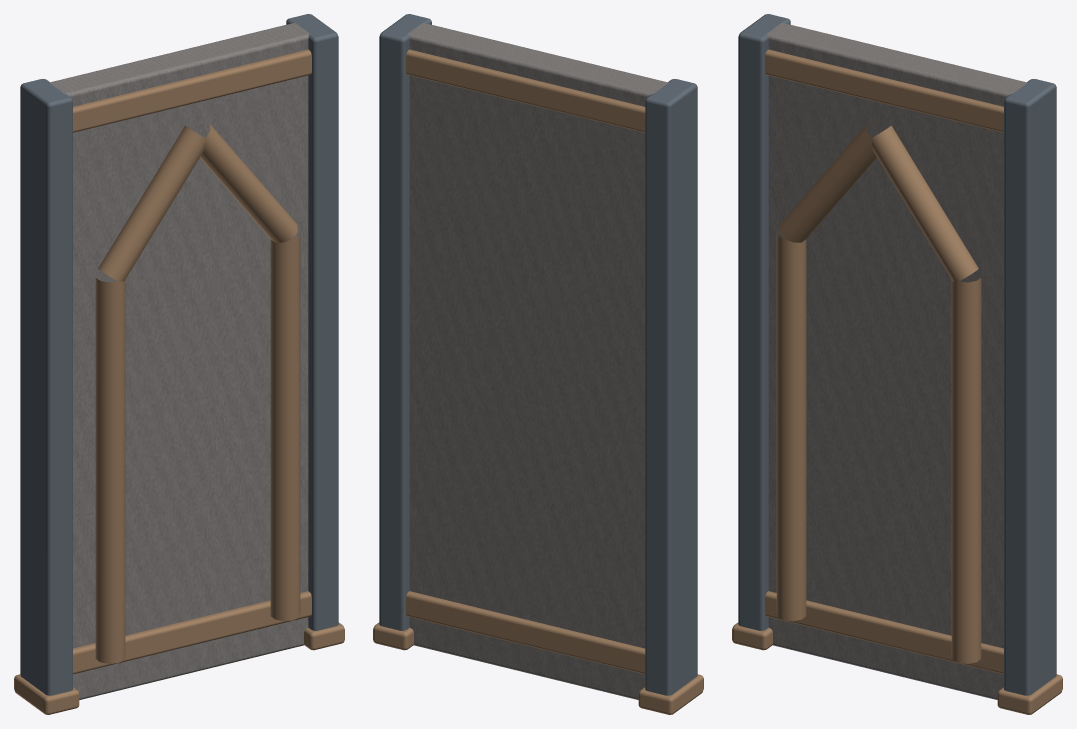
Rendered from arena-shooter-map-kit-gothic-wall-ribs-2fa516bb__23073.glb.
3 views of the same model, side by side, from view 1: azimuth 30°, elevation 25°; view 2: azimuth 150°, elevation 25°; view 3: azimuth 330°, elevation 25° (orthographic).
Parts seen in each view (by area): view 1: gothic-wall-ribs; view 2: gothic-wall-ribs; view 3: gothic-wall-ribs.
Part boxes in pixels (x1=…): gothic-wall-ribs: x1=14, y1=14, x2=344, y2=714; gothic-wall-ribs: x1=373, y1=14, x2=703, y2=714; gothic-wall-ribs: x1=732, y1=14, x2=1062, y2=714.
Size of the model in its own units: 2.06 by 4 by 0.5098.
Materials: 3 (1 with a texture image).
